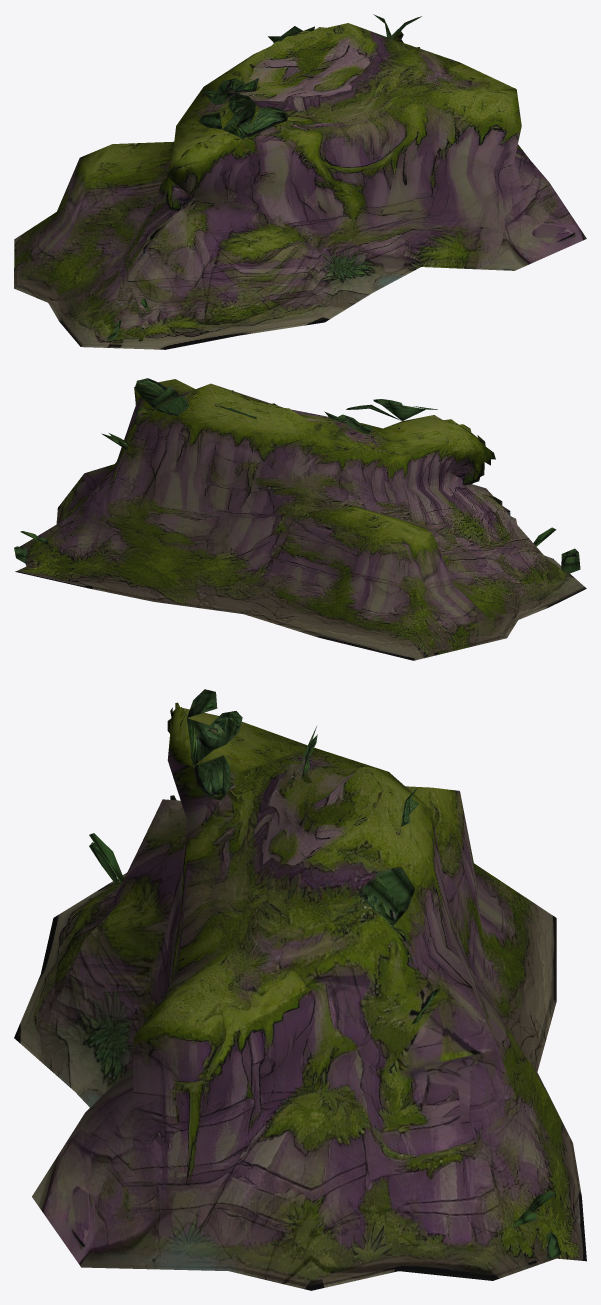
File: mountain01.glb
The picture shows the model from 3 angles, top to bottom: view 1: azimuth 30°, elevation 25°; view 2: azimuth 150°, elevation 25°; view 3: azimuth 270°, elevation 25°; orthographic projection. The views are drawn at different scales.
Visible parts, largest first — view 1: Mountain01; view 2: Mountain01; view 3: Mountain01.
Part boxes in pixels (x1,y1,x2,y2): Mountain01: [14, 14, 586, 349]; Mountain01: [14, 378, 586, 660]; Mountain01: [14, 689, 586, 1290].
Size of the model in its own units: 20.28 by 7.14 by 11.63.
Materials: 1 (1 with a texture image).
